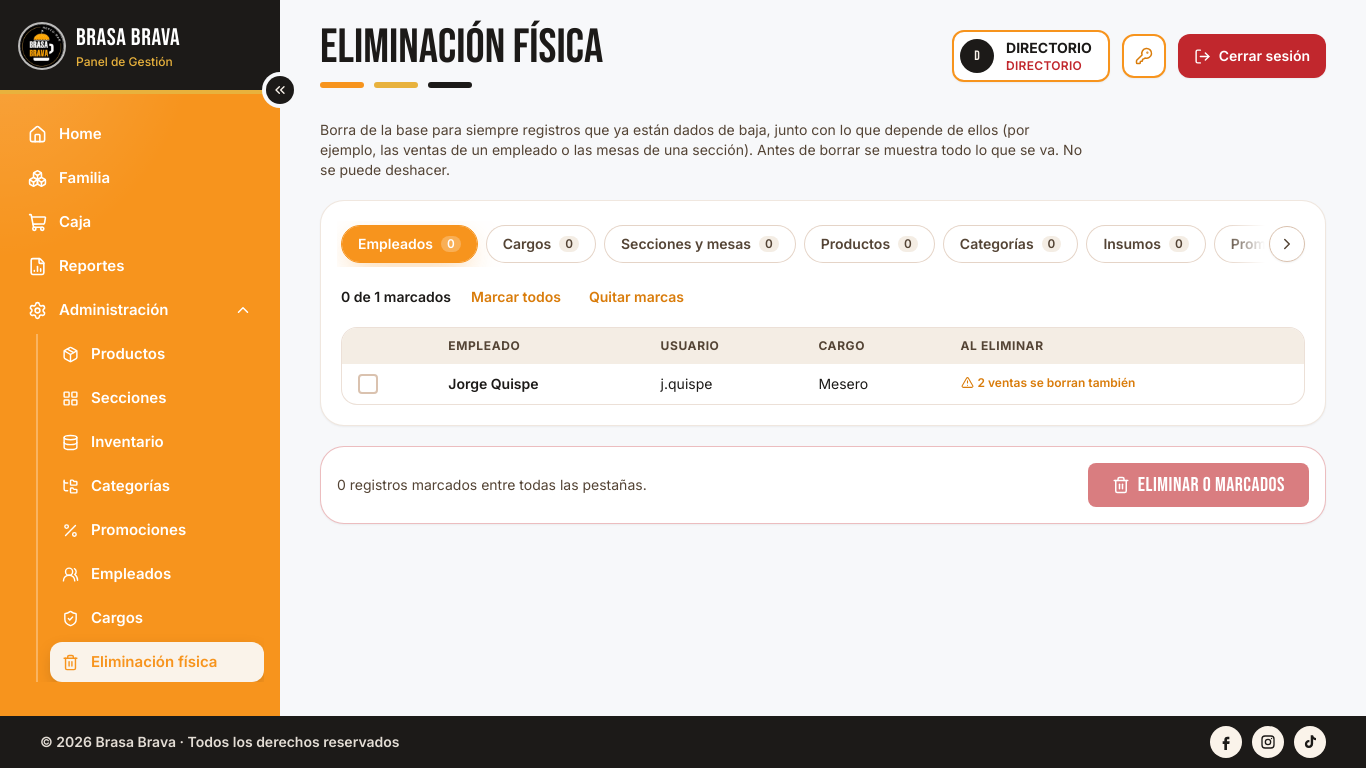
Test: Eliminación física › avisa lo que impide borrar sin dejar confirmar
This screenshot has width=1366, height=768.
Click the text "Jorge Quispe" at x=493, y=384, box [448,375,538,392]
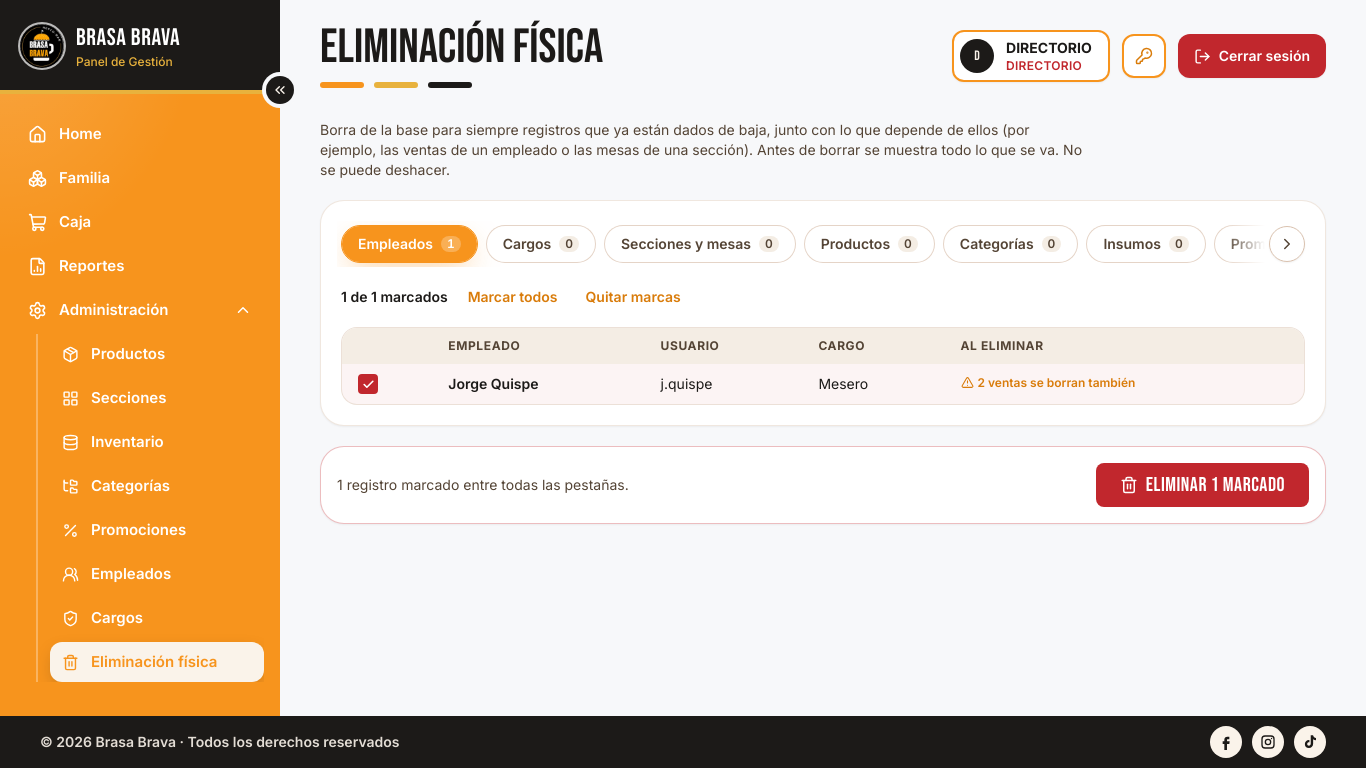
Click the button "Eliminar 1 marcado" at x=1202, y=485, box [1096,463,1309,507]
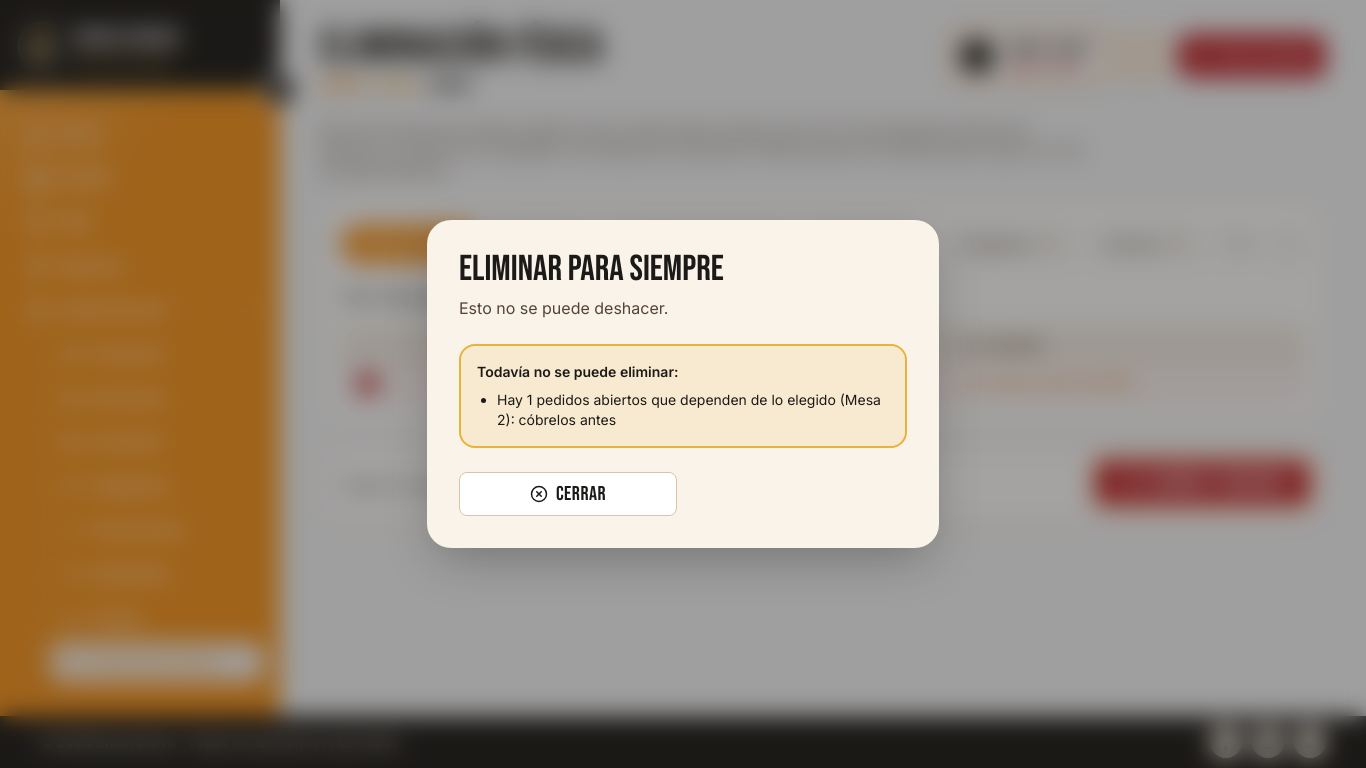
Check: the message shows "cóbrelos antes", box [497,391,881,428]
Click the button "Cerrar" at x=568, y=494, box [459,472,677,516]
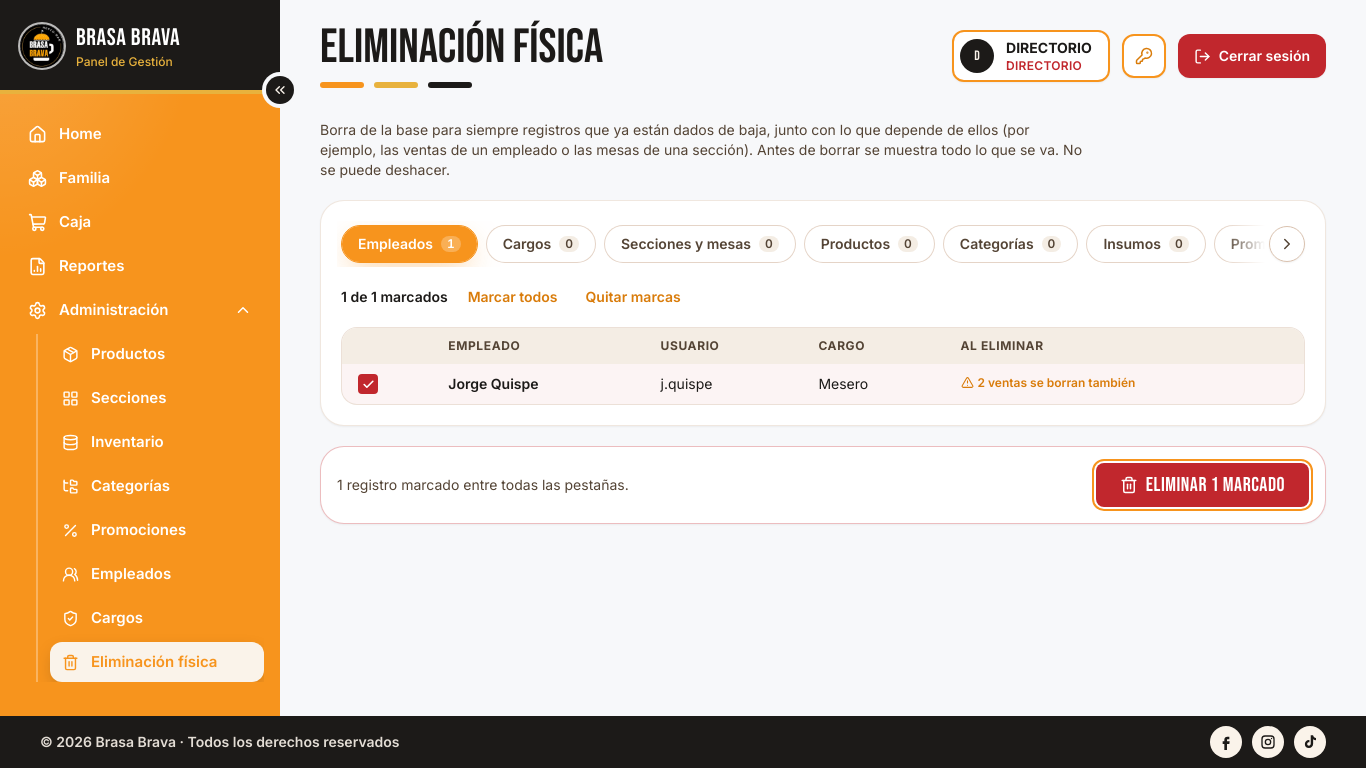
Check: the dialog is gone
